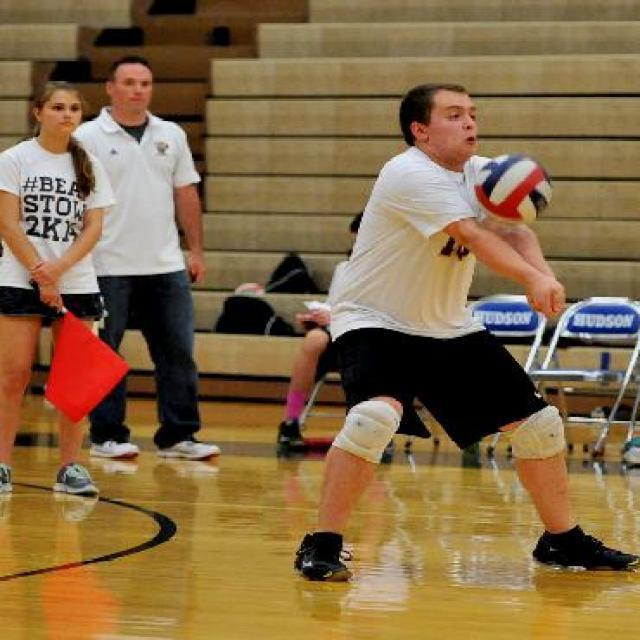volleyball: (474, 155, 552, 222)
